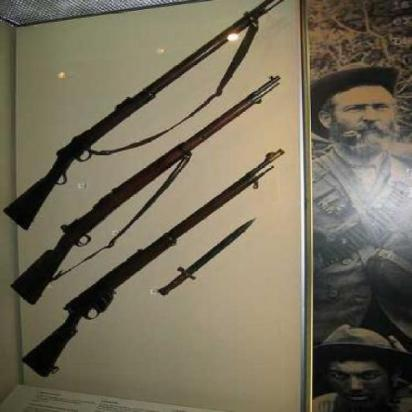Gun: (13, 70, 296, 310), (10, 0, 298, 230), (27, 140, 290, 380)
